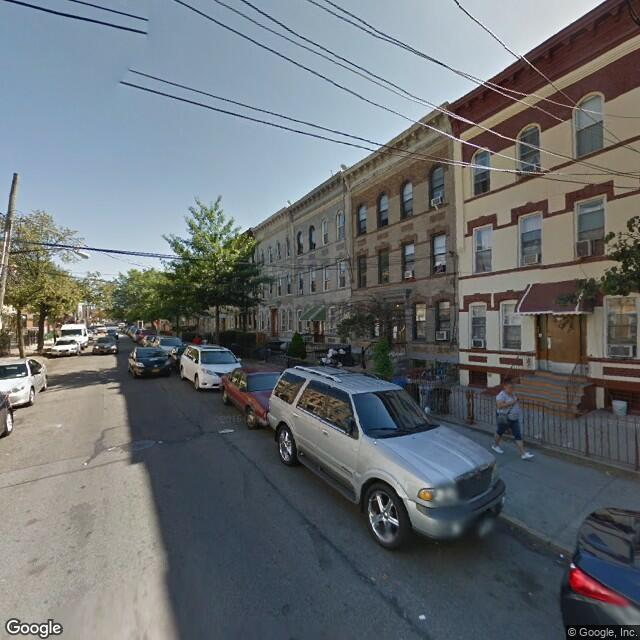litter: (594, 465, 621, 480), (549, 544, 567, 563), (413, 602, 431, 619)
